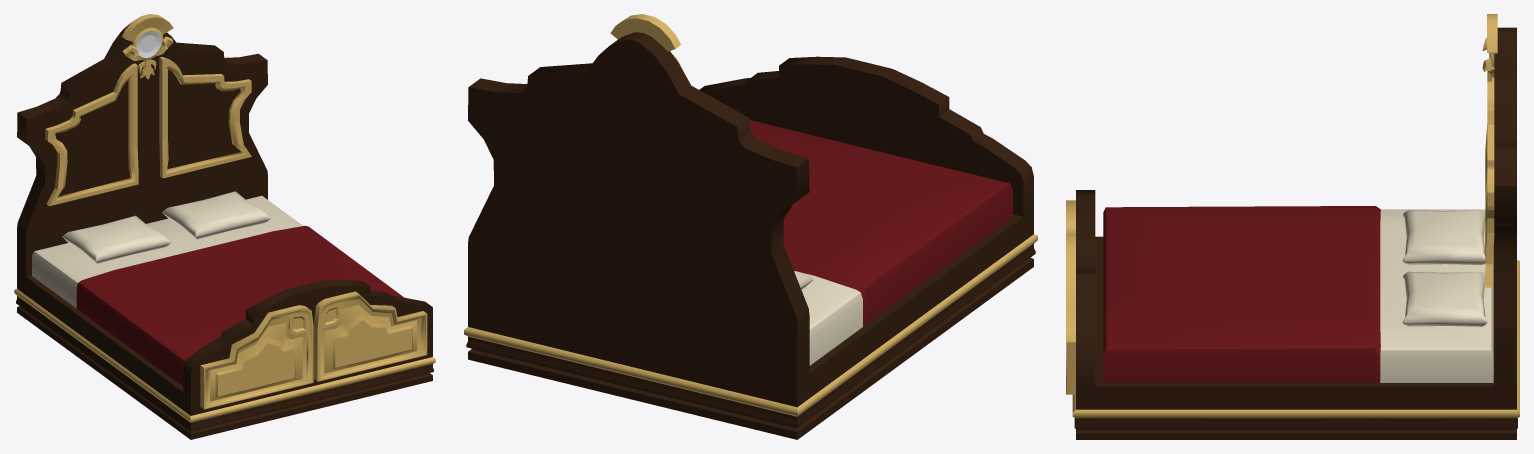
File: MasterBedUV.fbx
3 renders of one model, left to right at view 1: azimuth 30°, elevation 25°; view 2: azimuth 150°, elevation 25°; view 3: azimuth 270°, elevation 25°, orthographic. The views are drawn at different scales.
Parts seen in each view (by area): view 1: MasterBed; view 2: MasterBed; view 3: MasterBed.
Boxes of the visible parts, x1,y1,x2,y2 form: MasterBed: (14, 14, 435, 439); MasterBed: (464, 14, 1037, 439); MasterBed: (1066, 14, 1519, 439).
Bounding box in the file's own units: 329 × 351 × 416.
